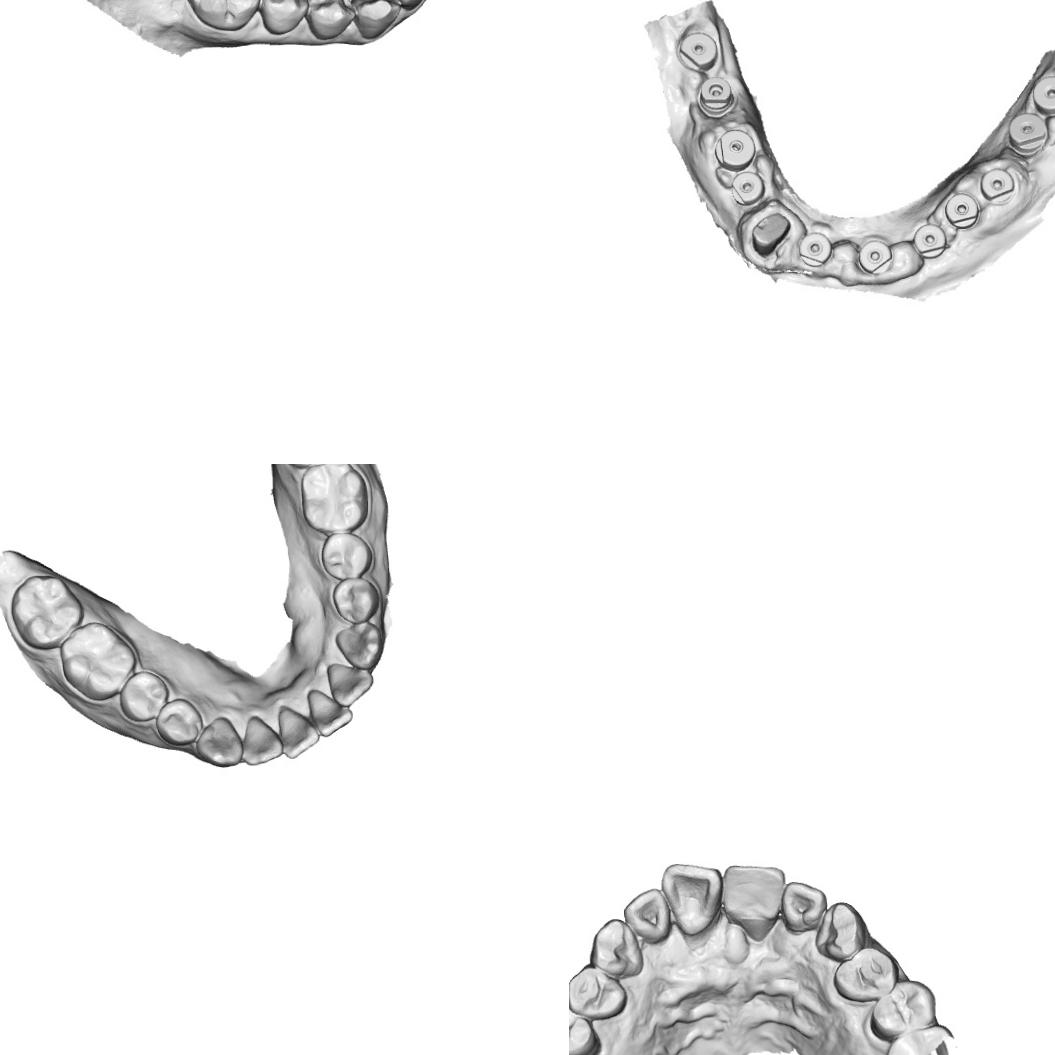canine: (593, 917, 650, 977), (814, 899, 866, 958), (195, 714, 244, 770), (334, 620, 384, 671), (349, 0, 402, 42)
crown: (744, 207, 794, 260)
implant: (714, 128, 760, 173), (1006, 109, 1052, 152), (855, 236, 897, 278), (975, 164, 1018, 204), (728, 168, 768, 210), (696, 74, 735, 116), (943, 194, 983, 234), (912, 224, 954, 262), (680, 28, 719, 68), (795, 232, 834, 270), (1031, 71, 1055, 118)
incisor: (723, 864, 788, 939), (664, 863, 724, 936), (621, 888, 674, 946), (780, 877, 826, 939), (277, 704, 321, 759), (241, 712, 284, 766), (307, 688, 354, 737), (325, 661, 374, 708), (379, 0, 435, 13)
molar: (58, 620, 137, 702), (8, 573, 85, 652), (298, 464, 370, 536), (182, 0, 264, 33)
premolar: (870, 977, 934, 1037), (832, 951, 894, 1002), (569, 964, 627, 1017), (117, 669, 170, 722), (320, 530, 374, 580), (154, 696, 203, 746), (331, 575, 380, 624), (303, 0, 358, 41), (257, 0, 309, 38), (569, 1001, 599, 1055)
